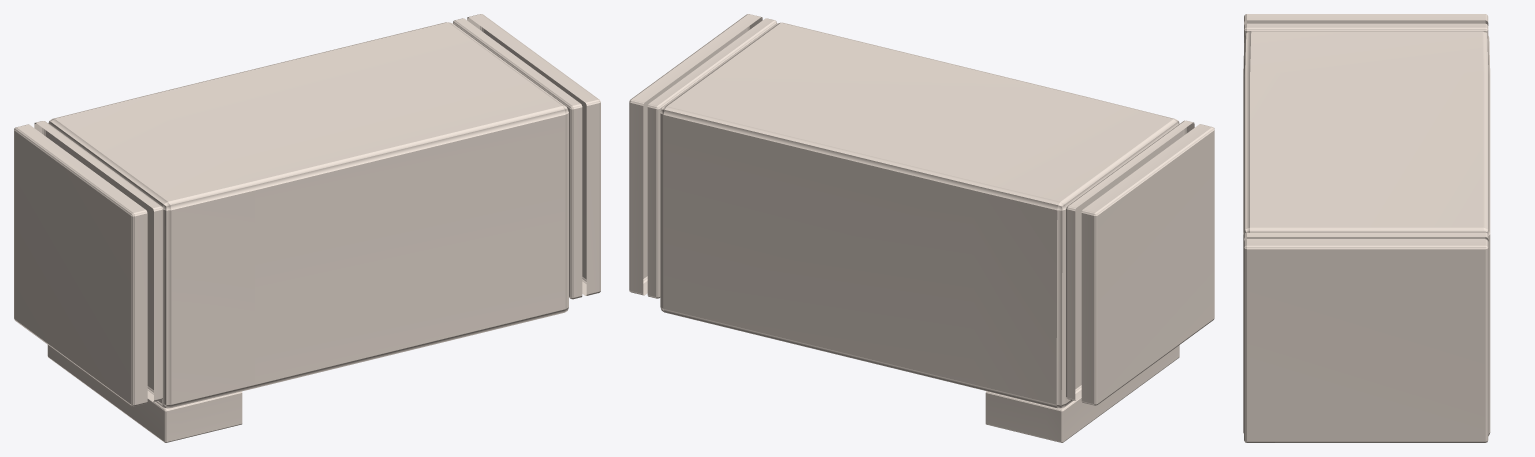
Rendered from BodymeshMicrowaveB10_0_GeomSubset_0.obj.
3 views of the same model, side by side, from view 1: azimuth 30°, elevation 25°; view 2: azimuth 150°, elevation 25°; view 3: azimuth 270°, elevation 25° (orthographic). The views are drawn at different scales.
Visible parts, largest first — view 1: BodymeshMicrowaveB10_0_GeomSubset_0; view 2: BodymeshMicrowaveB10_0_GeomSubset_0; view 3: BodymeshMicrowaveB10_0_GeomSubset_0.
Boxes of the visible parts, x1,y1,x2,y2 form: BodymeshMicrowaveB10_0_GeomSubset_0: [14, 14, 600, 442]; BodymeshMicrowaveB10_0_GeomSubset_0: [629, 14, 1214, 442]; BodymeshMicrowaveB10_0_GeomSubset_0: [1243, 14, 1490, 442].
Size of the model in its own units: 0.6997 by 0.3411 by 0.3512.
